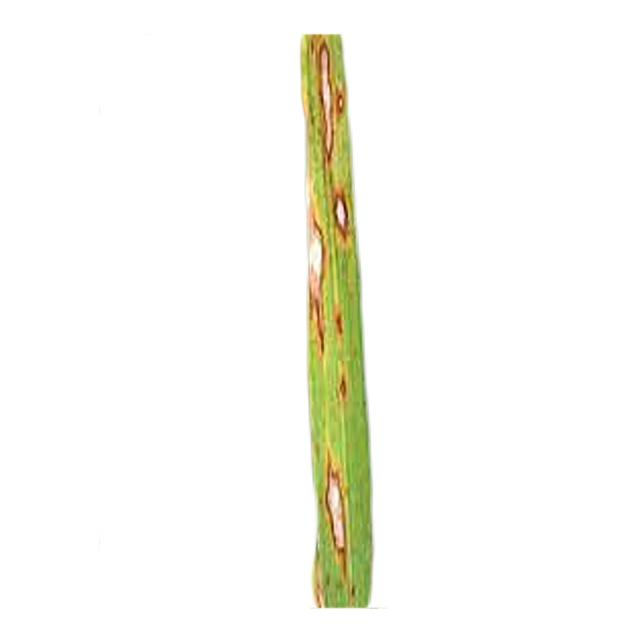Leaf blast: (274, 22, 416, 612)
